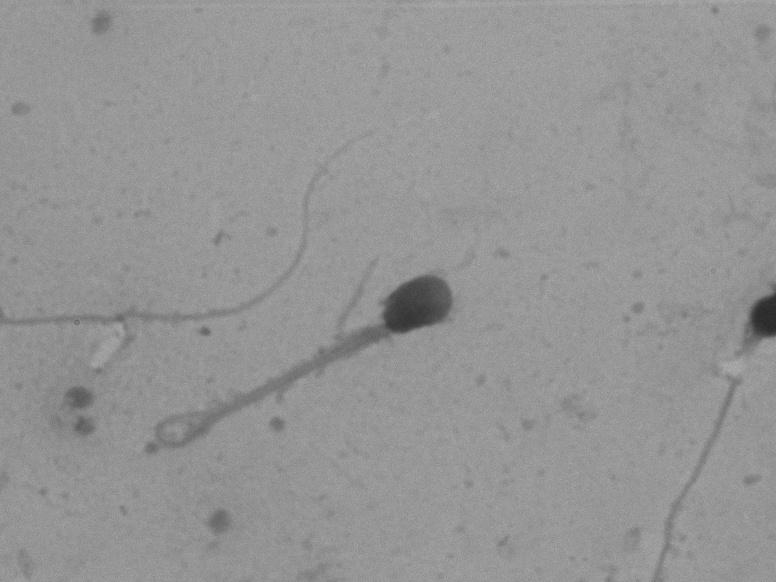Abnormal: (150, 232, 506, 505)
